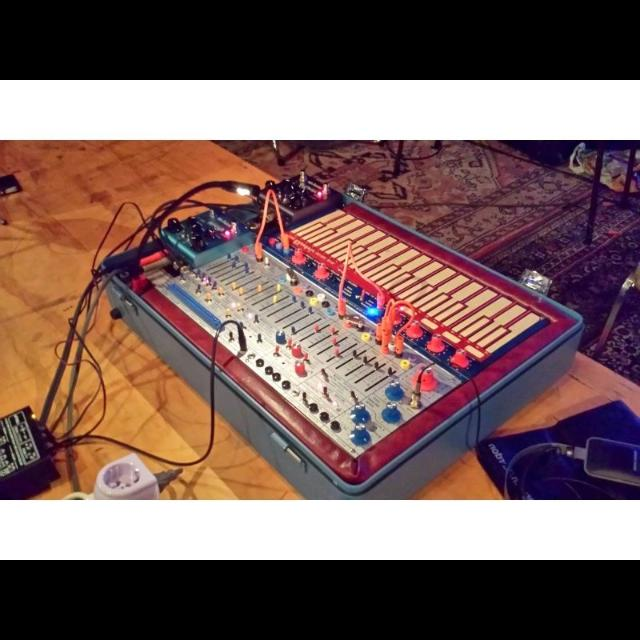Electronic-Keyboard: (94, 170, 586, 462)
